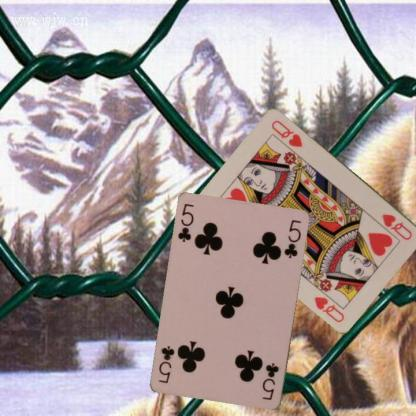5c: (176, 201, 196, 244), (260, 360, 280, 402)
Qh: (380, 211, 414, 241)
